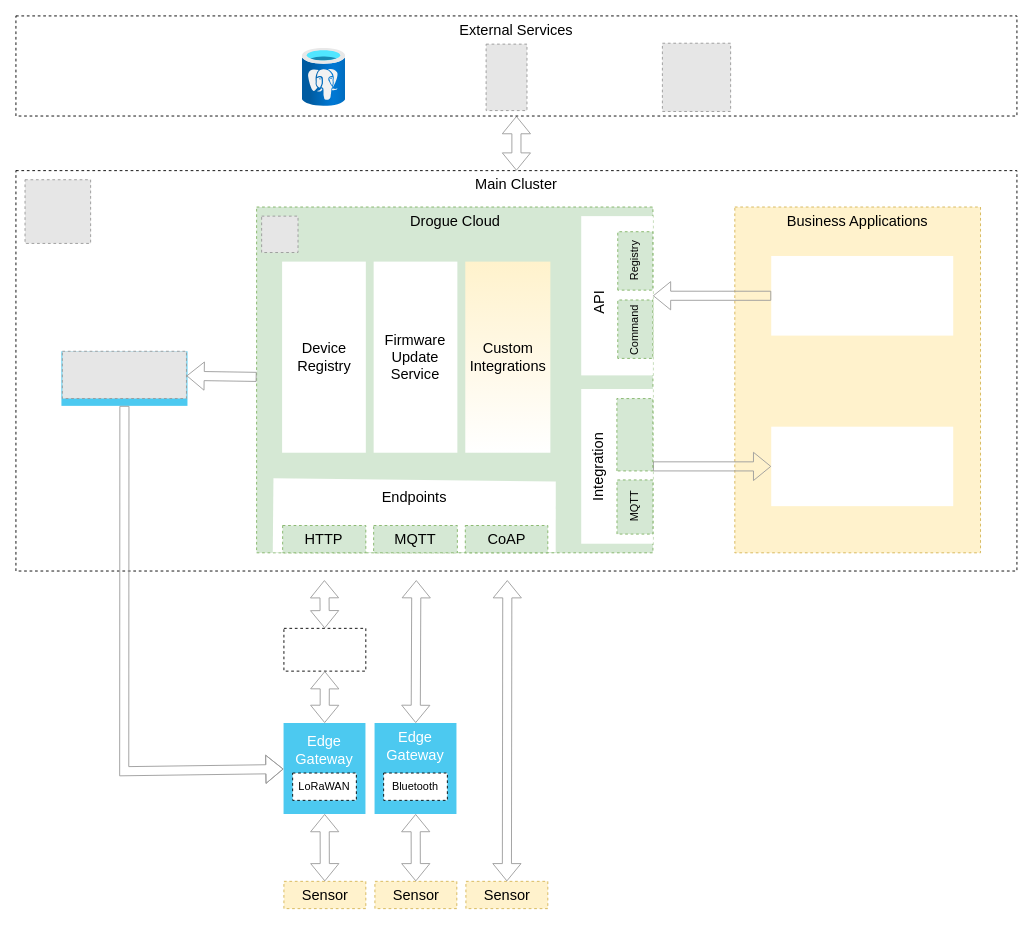
The diagram is 1033 pixels wide and 925 high, and some of its shapes have lost their labels. Grey dashed boxes stand in for pictures. The centre of each missing label's shape, as x and y in pixels:
LoRaWAN Network: (x=324, y=649)
Pollution Forecaster: (x=862, y=466)
Sensor Onboarding: (x=862, y=295)
WebSocket: (x=634, y=434)
